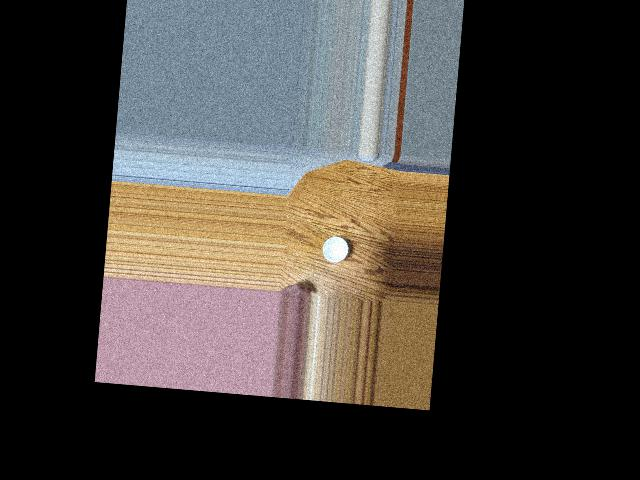cotage: (318, 234, 348, 266)
